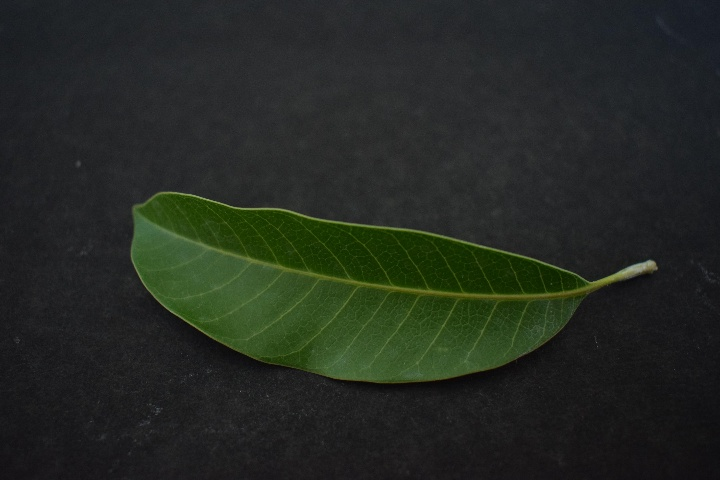healthy: (122, 189, 595, 385)
